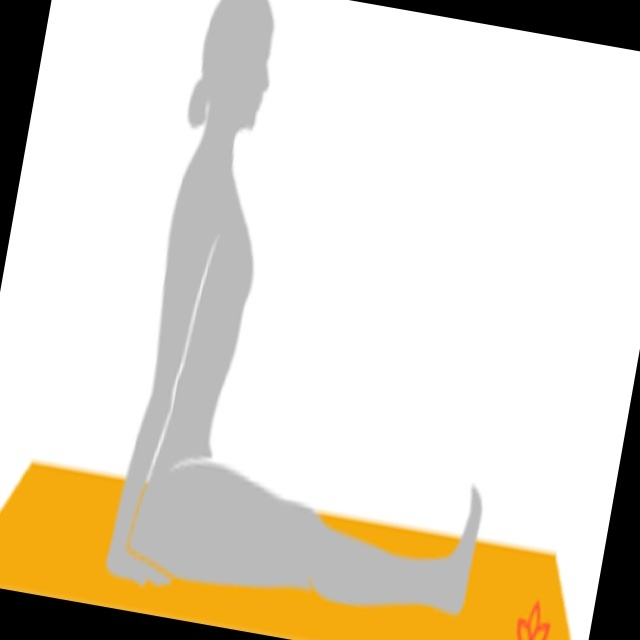Staff_Pose: (107, 2, 484, 616)
